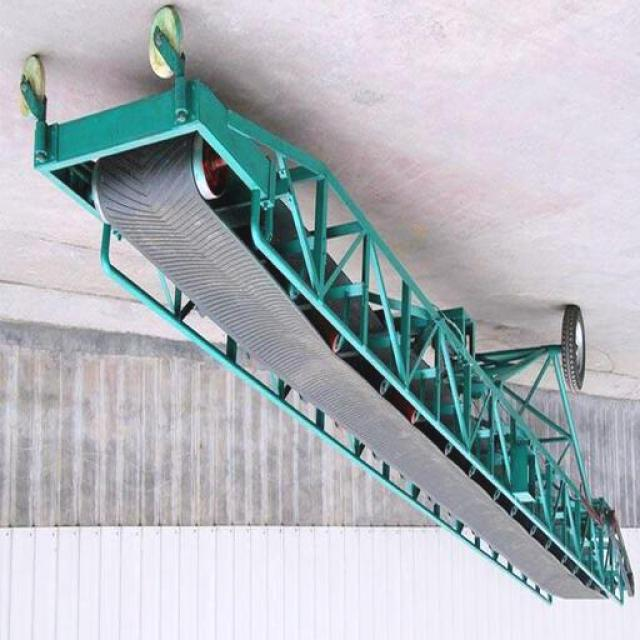conveyor: (93, 141, 605, 597)
